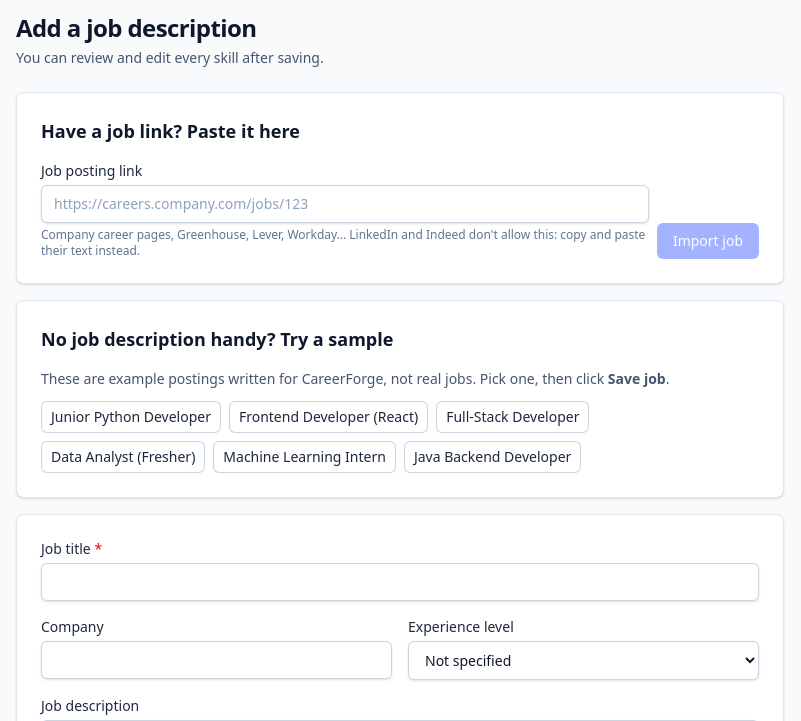
Test: Import a job from a link › shows the page-text warning so the user tidies the description
Type "https://careers.example.com/1" into the field labelled "Job posting link" at (345, 204), box top-left (41, 185), bottom-right (649, 223)
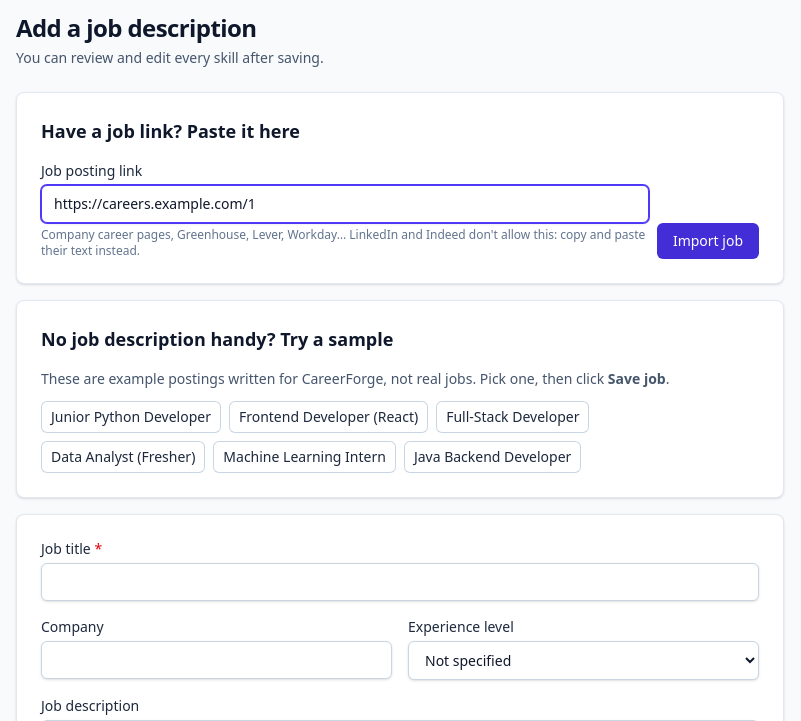
Click the button "Import job" at (708, 241), box top-left (657, 223), bottom-right (759, 259)
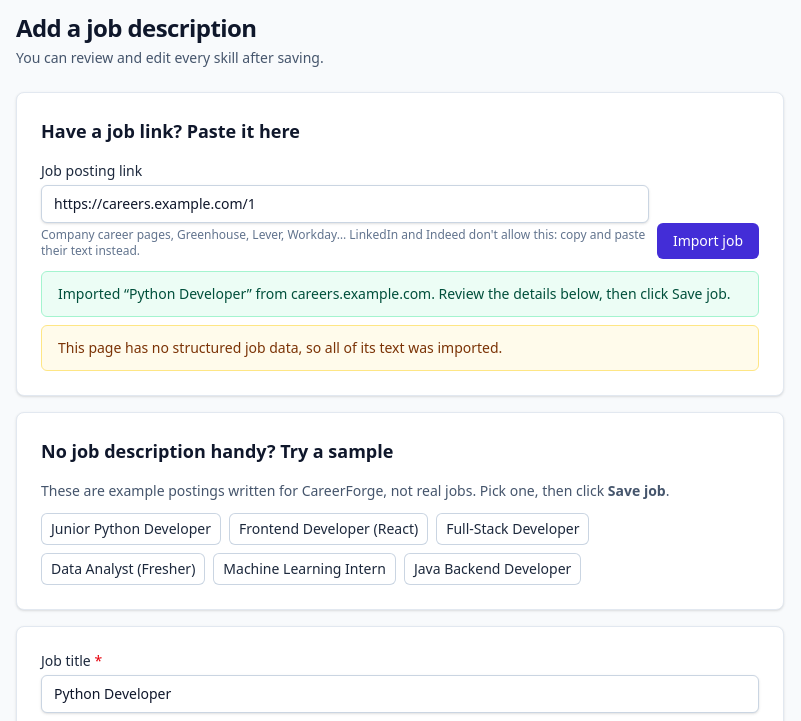
Now the text "no structured job data" is shown, box top-left (58, 338), bottom-right (502, 357)
